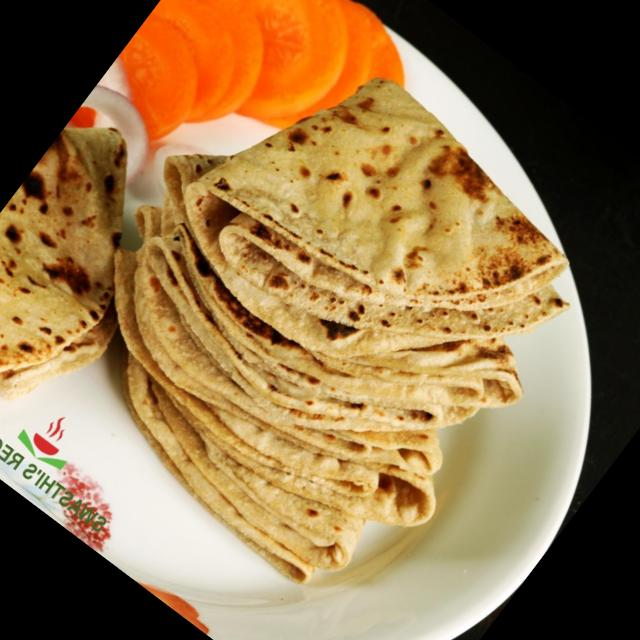roti: (0, 68, 579, 588)
